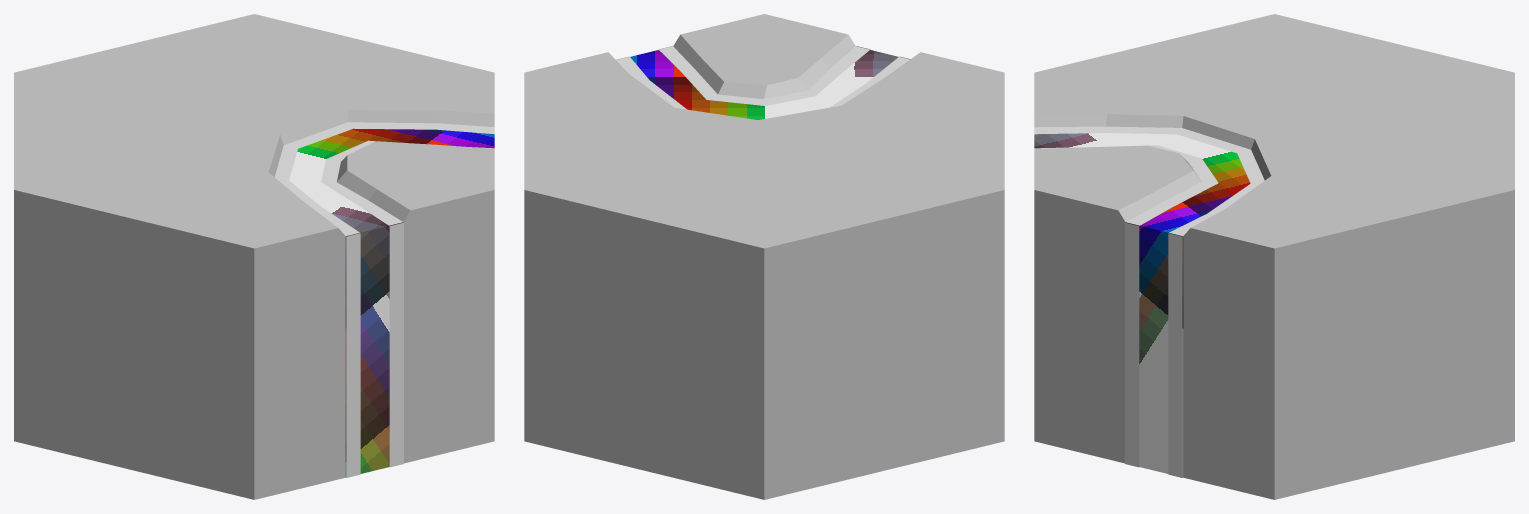
Rendered from Hexagon2_3.fbx.
3 renders of one model, left to right at view 1: azimuth 30°, elevation 25°; view 2: azimuth 150°, elevation 25°; view 3: azimuth 270°, elevation 25°, orthographic.
Parts seen in each view (by area): view 1: Hex2_3; view 2: Hex2_3; view 3: Hex2_3.
Boxes of the visible parts, x1=… form: Hex2_3: x1=14, y1=14, x2=494, y2=499; Hex2_3: x1=524, y1=14, x2=1004, y2=499; Hex2_3: x1=1034, y1=14, x2=1514, y2=499.
Bounding box in the file's own units: 1000 × 500 × 868.
